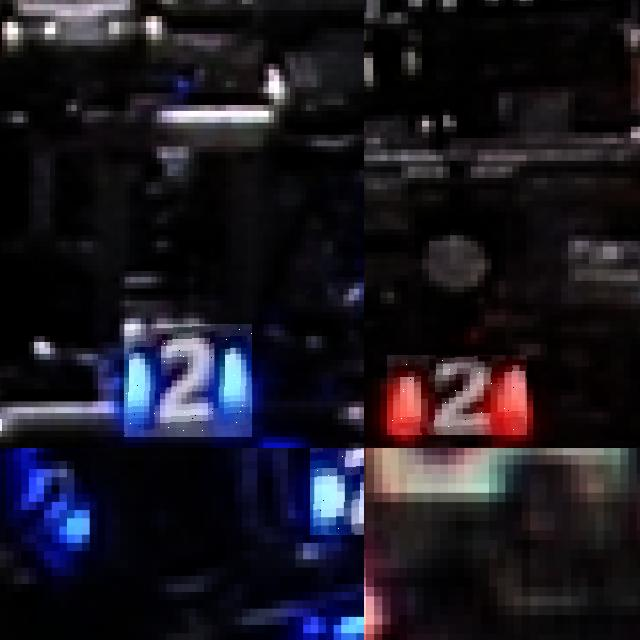B2: (125, 324, 252, 437), (14, 453, 90, 551), (310, 448, 364, 534)
R2: (387, 355, 527, 435)
